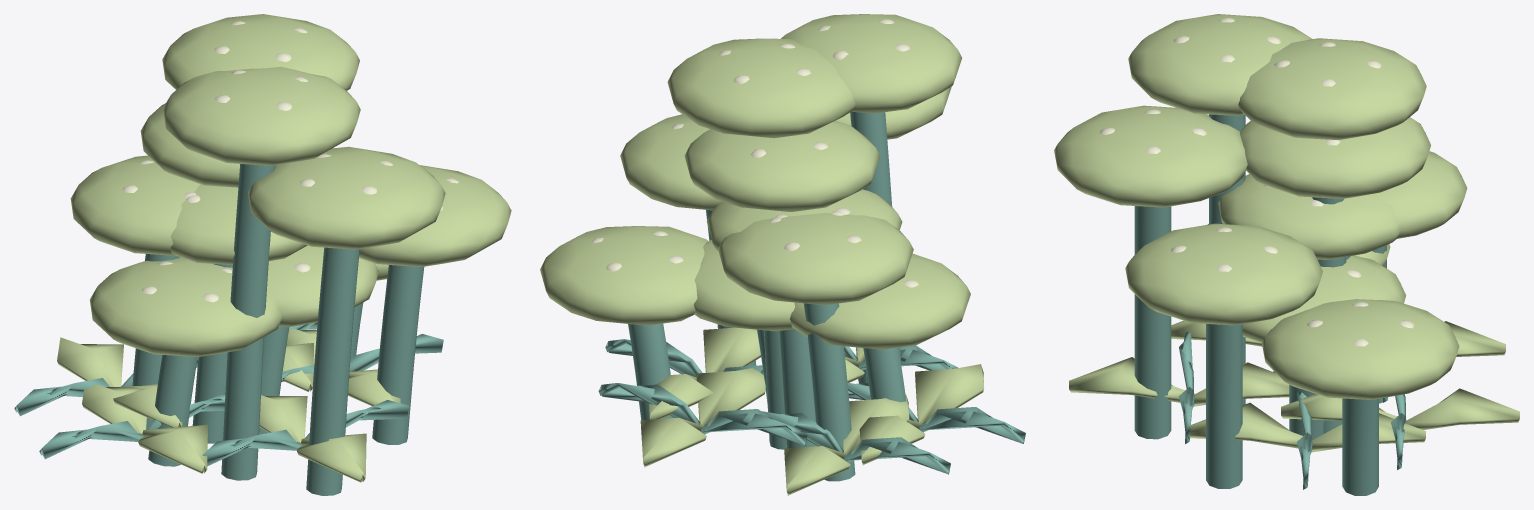
The model's file is bio_spore_fungus_25_far.glb.
3 renders of one model, left to right at view 1: azimuth 30°, elevation 25°; view 2: azimuth 150°, elevation 25°; view 3: azimuth 270°, elevation 25°, orthographic.
Parts seen in each view (by area): view 1: Thick umbrella cap.007, Thick umbrella cap.002, Thick umbrella cap.004, Thick umbrella cap.003, Curved stipe.007, Thick umbrella cap.001, Curved stipe.002, Thick umbrella cap.005, Curved stipe.005, Thick umbrella cap.009, Thick umbrella cap, Low buttress leaf.017 (+13 smaller); view 2: Thick umbrella cap.003, Thick umbrella cap.001, Thick umbrella cap.008, Thick umbrella cap.006, Thick umbrella cap.007, Thick umbrella cap.004, Thick umbrella cap.005, Low buttress leaf.013, Thick umbrella cap, Low buttress leaf.017, Curved stipe.001, Low buttress leaf.005 (+13 smaller); view 3: Thick umbrella cap.005, Thick umbrella cap.008, Thick umbrella cap.002, Thick umbrella cap.003, Thick umbrella cap.007, Thick umbrella cap.006, Thick umbrella cap.009, Curved stipe.002, Curved stipe.005, Thick umbrella cap.001, Low buttress leaf.013, Thick umbrella cap (+11 smaller).
Boxes of the visible parts, box(x1,y1,x2,y2) form: Thick umbrella cap.007: box(163, 66, 360, 165); Thick umbrella cap.002: box(248, 146, 445, 249); Thick umbrella cap.004: box(90, 257, 282, 356); Thick umbrella cap.003: box(162, 14, 359, 90); Curved stipe.007: box(221, 164, 275, 480); Thick umbrella cap.001: box(70, 155, 199, 255); Curved stipe.002: box(306, 247, 359, 495); Thick umbrella cap.005: box(359, 165, 511, 266); Curved stipe.005: box(372, 265, 424, 444); Thick umbrella cap.009: box(170, 184, 307, 265); Thick umbrella cap: box(267, 245, 378, 326); Low buttress leaf.017: box(82, 380, 207, 473); Thick umbrella cap.003: box(667, 38, 855, 138); Thick umbrella cap.001: box(718, 212, 913, 305); Thick umbrella cap.008: box(540, 226, 708, 325); Thick umbrella cap.006: box(684, 120, 880, 211); Thick umbrella cap.007: box(781, 14, 961, 113); Thick umbrella cap.004: box(790, 253, 970, 349); Thick umbrella cap.005: box(620, 114, 721, 210); Low buttress leaf.013: box(640, 368, 765, 467); Thick umbrella cap: box(693, 240, 794, 331); Low buttress leaf.017: box(859, 364, 984, 465); Curved stipe.001: box(803, 303, 855, 481); Low buttress leaf.005: box(784, 394, 909, 495); Thick umbrella cap.005: box(1125, 223, 1322, 325); Thick umbrella cap.008: box(1262, 299, 1459, 399); Thick umbrella cap.002: box(1054, 105, 1247, 207); Thick umbrella cap.003: box(1238, 38, 1426, 139); Thick umbrella cap.007: box(1128, 14, 1312, 115); Thick umbrella cap.006: box(1240, 117, 1430, 198); Thick umbrella cap.009: box(1218, 174, 1401, 259); Curved stipe.002: box(1134, 206, 1171, 439); Curved stipe.005: box(1206, 324, 1242, 488); Thick umbrella cap.001: box(1371, 151, 1467, 238); Low buttress leaf.013: box(1281, 388, 1519, 429); Thick umbrella cap: box(1242, 255, 1406, 342).
Bounding box in the file's own units: 2.36 × 1.97 × 2.16.
